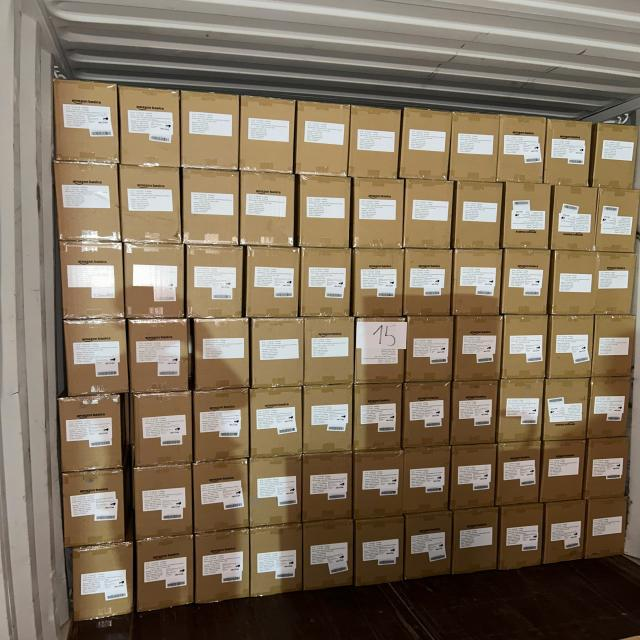Carton: (54, 76, 120, 162), (54, 165, 123, 246), (119, 86, 181, 168), (60, 244, 124, 323), (73, 540, 136, 620), (62, 318, 127, 395), (120, 166, 182, 246), (58, 394, 121, 472), (62, 471, 124, 549), (124, 245, 186, 322), (182, 90, 240, 172), (130, 393, 192, 469), (127, 318, 190, 392), (182, 167, 240, 246), (138, 536, 197, 613), (136, 464, 195, 538), (185, 246, 243, 321), (238, 96, 293, 175), (241, 171, 297, 247), (193, 459, 248, 534), (295, 103, 348, 180), (195, 391, 250, 465), (197, 531, 250, 607), (194, 316, 248, 390), (248, 248, 302, 322), (301, 174, 353, 248), (251, 523, 303, 597), (250, 455, 303, 527), (350, 105, 400, 180), (304, 521, 355, 594), (252, 387, 305, 457), (253, 318, 305, 389), (299, 247, 350, 319), (402, 106, 451, 180), (352, 178, 403, 249), (352, 249, 403, 319), (305, 382, 355, 453), (353, 316, 404, 385), (305, 452, 355, 522), (355, 519, 403, 591), (302, 318, 352, 387), (453, 109, 500, 182), (405, 178, 454, 248), (351, 383, 400, 453), (352, 453, 401, 522), (402, 448, 450, 518), (455, 248, 504, 316), (457, 181, 505, 249), (405, 248, 452, 317), (406, 514, 452, 583), (502, 182, 550, 248), (502, 248, 549, 315), (498, 113, 543, 182), (408, 316, 453, 385), (451, 446, 497, 513), (546, 118, 591, 186), (454, 317, 501, 382), (404, 384, 451, 449), (451, 508, 497, 574), (550, 252, 596, 317), (552, 184, 596, 251), (497, 379, 542, 444), (451, 382, 496, 447), (502, 506, 545, 573), (592, 123, 635, 190), (548, 315, 592, 380), (502, 314, 545, 380), (545, 380, 590, 442), (496, 444, 540, 507), (599, 188, 640, 254), (591, 316, 634, 378), (584, 436, 627, 498), (587, 377, 630, 439), (544, 503, 586, 566), (543, 438, 585, 501), (587, 498, 628, 562), (597, 252, 638, 316)
